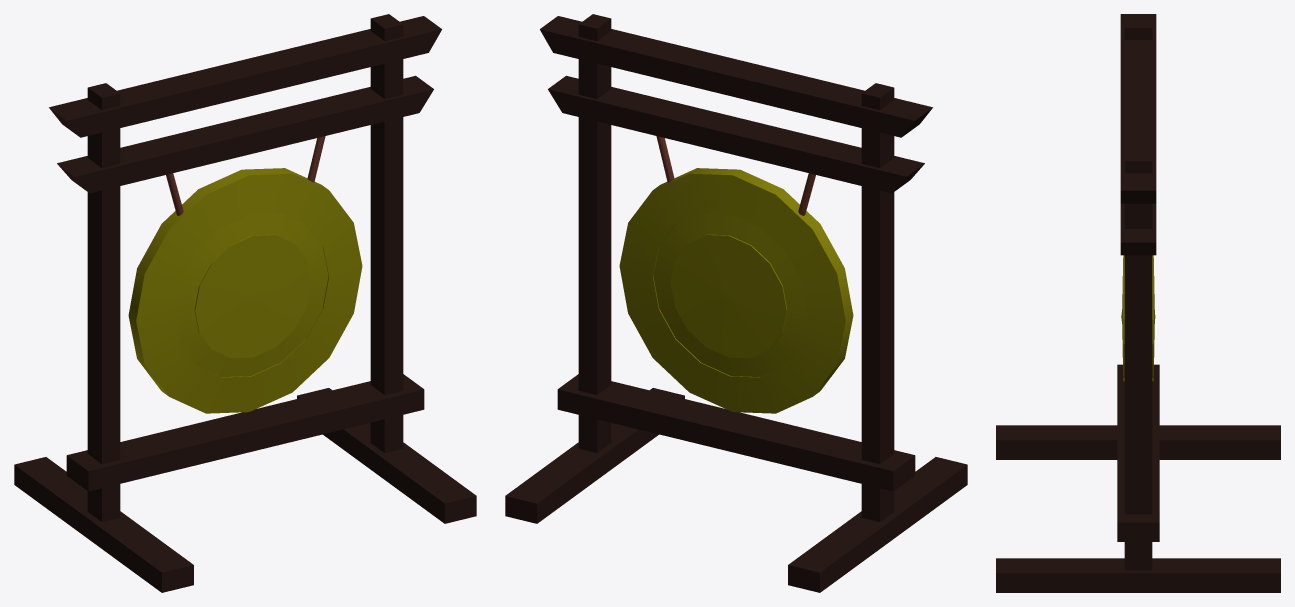
File: obj_chinese_gong_small.fbx
3 renders of one model, left to right at view 1: azimuth 30°, elevation 25°; view 2: azimuth 150°, elevation 25°; view 3: azimuth 270°, elevation 25°, orthographic. The views are drawn at different scales.
Visible parts, largest first — view 1: msh_frame, msh_gong; view 2: msh_frame, msh_gong; view 3: msh_frame, msh_gong.
Part boxes in pixels (x1,y1,x2,y2): msh_frame: (14,14,476,592); msh_gong: (128,168,362,413); msh_frame: (505,14,967,592); msh_gong: (619,168,853,413); msh_frame: (996,14,1280,592); msh_gong: (1121,255,1155,381).
Size of the model in its own units: 61.02 by 69.07 by 41.62.
